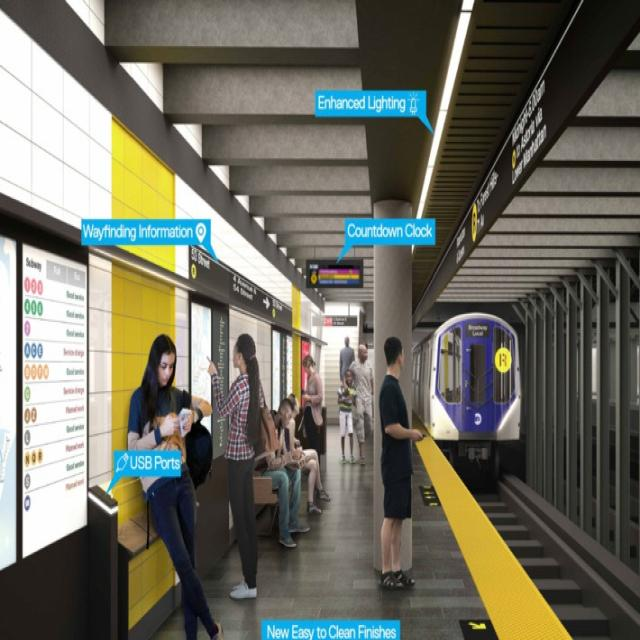body: (124, 332, 228, 638), (204, 332, 279, 602), (372, 334, 425, 594), (251, 396, 312, 550), (283, 392, 332, 514), (348, 344, 375, 468), (300, 353, 324, 467), (336, 368, 357, 465), (338, 334, 356, 384)
